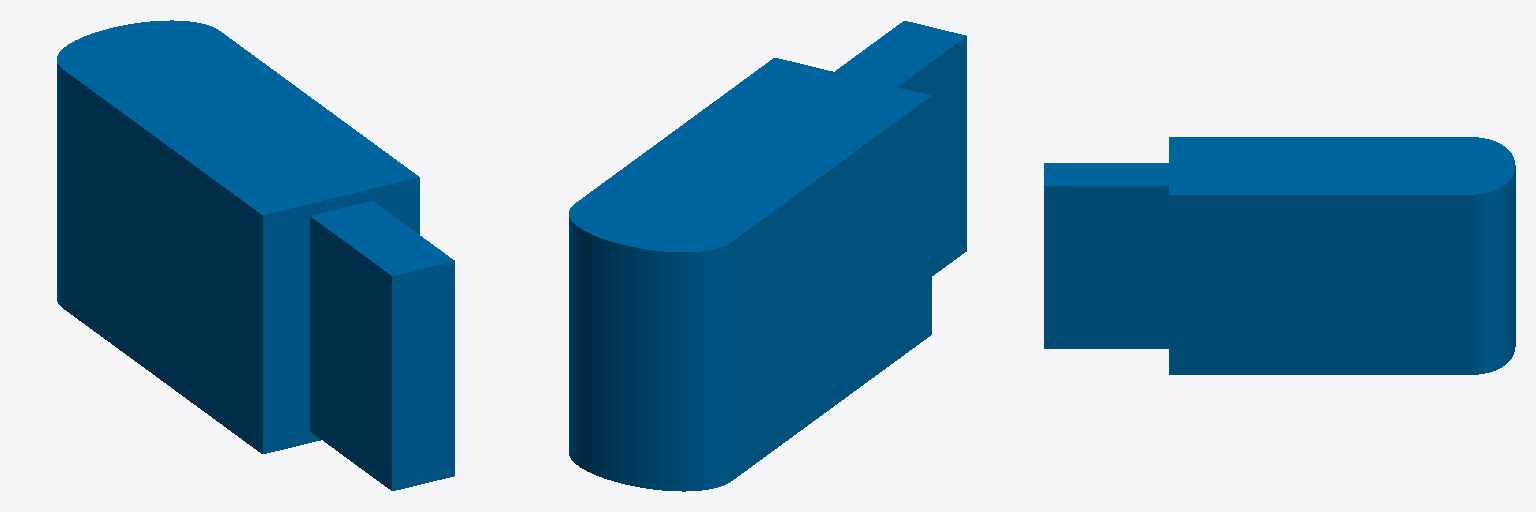
The robot description file, URDF, robot "2v2_1.2_1.1_1.1_8.10":
<?xml version="1.0" ?>
<robot name="2v2_1.2_1.1_1.1_8.10">

    <link name="palm">
        <visual>
            <origin rpy="0 0 0" xyz="0 0 0"/>
            <geometry>
                <mesh filename="obj_files/palm.obj" scale="1 1 1"/>
            </geometry>
        </visual>
        <collision>
            <geometry>
                <mesh filename="obj_files/palm_collision.obj" scale="1 1 1"/>
            </geometry>
        </collision>
    </link>

    <link name="finger0_segment0">
        <visual>
            <origin rpy="0 0 0" xyz="0 0 0"/>
            <geometry>
                <mesh filename="obj_files/finger0_segment0.obj" scale="1 1 1"/>
            </geometry>
        </visual>
        <collision>
            <geometry>
                <mesh filename="obj_files/finger0_segment0_collision.obj" scale="1 1 1"/>
            </geometry>
        </collision>
    </link>

    <joint name="finger0_segment0_joint" type="revolute">
        <parent link="palm"/>
        <child link="finger0_segment0"/>
        <origin rpy="0 0 0" xyz="0.02675 0 0.0"/>
        <axis xyz="0 0 1"/>
        <limit effort="1000.0" lower="-3.14" upper="3.14" velocity="0.5"/>
    </joint>

    <link name="finger0_segment1">
        <visual>
            <origin rpy="0 0 0" xyz="0 0 0"/>
            <geometry>
                <mesh filename="obj_files/finger0_segment1.obj" scale="1 1 1"/>
            </geometry>
        </visual>
        <collision>
            <geometry>
                <mesh filename="obj_files/finger0_segment1_collision.obj" scale="1 1 1"/>
            </geometry>
        </collision>
    </link>

    <joint name="finger0_segment1_joint" type="revolute">
        <parent link="finger0_segment0"/>
        <child link="finger0_segment1"/>
        <origin rpy="0 0 0" xyz="0 0.09974999999999999 0"/>
        <axis xyz="0 0 1"/>
        <limit effort="1000.0" lower="-3.14" upper="3.14" velocity="0.5"/>
    </joint>

    <link name="finger1_segment0">
        <visual>
            <origin rpy="0 0 0" xyz="0 0 0"/>
            <geometry>
                <mesh filename="obj_files/finger1_segment0.obj" scale="1 1 1"/>
            </geometry>
        </visual>
        <collision>
            <geometry>
                <mesh filename="obj_files/finger1_segment0_collision.obj" scale="1 1 1"/>
            </geometry>
        </collision>
    </link>

    <joint name="finger1_segment0_joint" type="revolute">
        <parent link="palm"/>
        <child link="finger1_segment0"/>
        <origin rpy="0 0 0" xyz="-0.02675 0 3.27593018771917e-18"/>
        <axis xyz="0 0 1"/>
        <limit effort="1000.0" lower="-3.14" upper="3.14" velocity="0.5"/>
    </joint>

    <link name="finger1_segment1">
        <visual>
            <origin rpy="0 0 0" xyz="0 0 0"/>
            <geometry>
                <mesh filename="obj_files/finger1_segment1.obj" scale="1 1 1"/>
            </geometry>
        </visual>
        <collision>
            <geometry>
                <mesh filename="obj_files/finger1_segment1_collision.obj" scale="1 1 1"/>
            </geometry>
        </collision>
    </link>

    <joint name="finger1_segment1_joint" type="revolute">
        <parent link="finger1_segment0"/>
        <child link="finger1_segment1"/>
        <origin rpy="0 0 0" xyz="0 0.07575 0"/>
        <axis xyz="0 0 1"/>
        <limit effort="1000.0" lower="-3.14" upper="3.14" velocity="0.5"/>
    </joint>

</robot>

--- What the picture shows (computed from the rendered views, not written in the file) ---
The picture shows the robot from 3 angles, left to right: view 1: azimuth 30°, elevation 25°; view 2: azimuth 150°, elevation 25°; view 3: azimuth 270°, elevation 25°; orthographic projection.
Model 2v2_1.2_1.1_1.1_8.10 with 5 links and 4 joints (4 revolute), rooted at palm, posed all joints at 0.
Links seen in each view (by area): view 1: finger1_segment1; view 2: finger1_segment1; view 3: finger1_segment1.
Link boxes in pixels (x1,y1,x2,y2): finger1_segment1: (57,20,454,490); finger1_segment1: (569,21,966,491); finger1_segment1: (1044,137,1515,374).
Bounding box of the posed robot: 0.022 × 0.0758 × 0.032 m (x, y, z).
1 mesh visuals loaded from 5 distinct referenced files (1 OBJ); not drawn: 4 (reference not matched to a file when rendering).